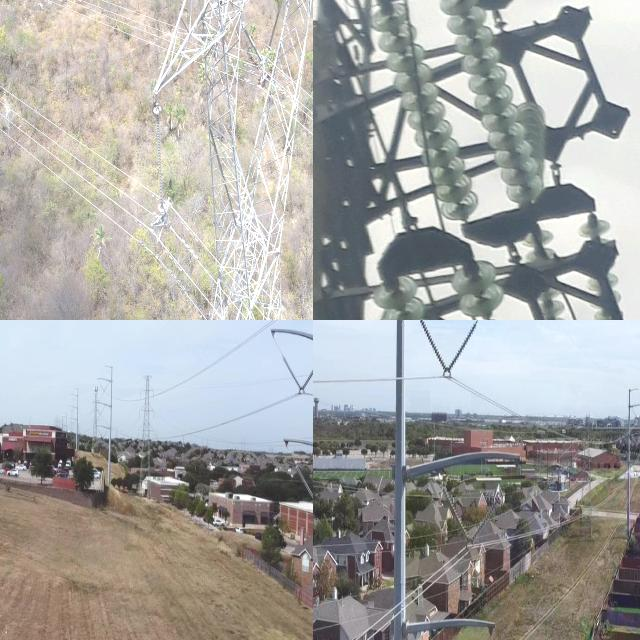杆塔: (313, 0, 640, 320), (138, 0, 313, 320), (388, 320, 530, 640), (615, 389, 640, 544), (131, 370, 158, 506)
正常绝缘子: (429, 0, 576, 234), (357, 0, 497, 236), (438, 248, 520, 320), (574, 210, 625, 320), (436, 475, 481, 558), (463, 480, 506, 558), (436, 320, 485, 386), (417, 320, 452, 381), (152, 104, 168, 214), (282, 355, 304, 394), (294, 464, 313, 500), (300, 369, 313, 395)
绝缘子破损: (478, 316, 499, 320)
